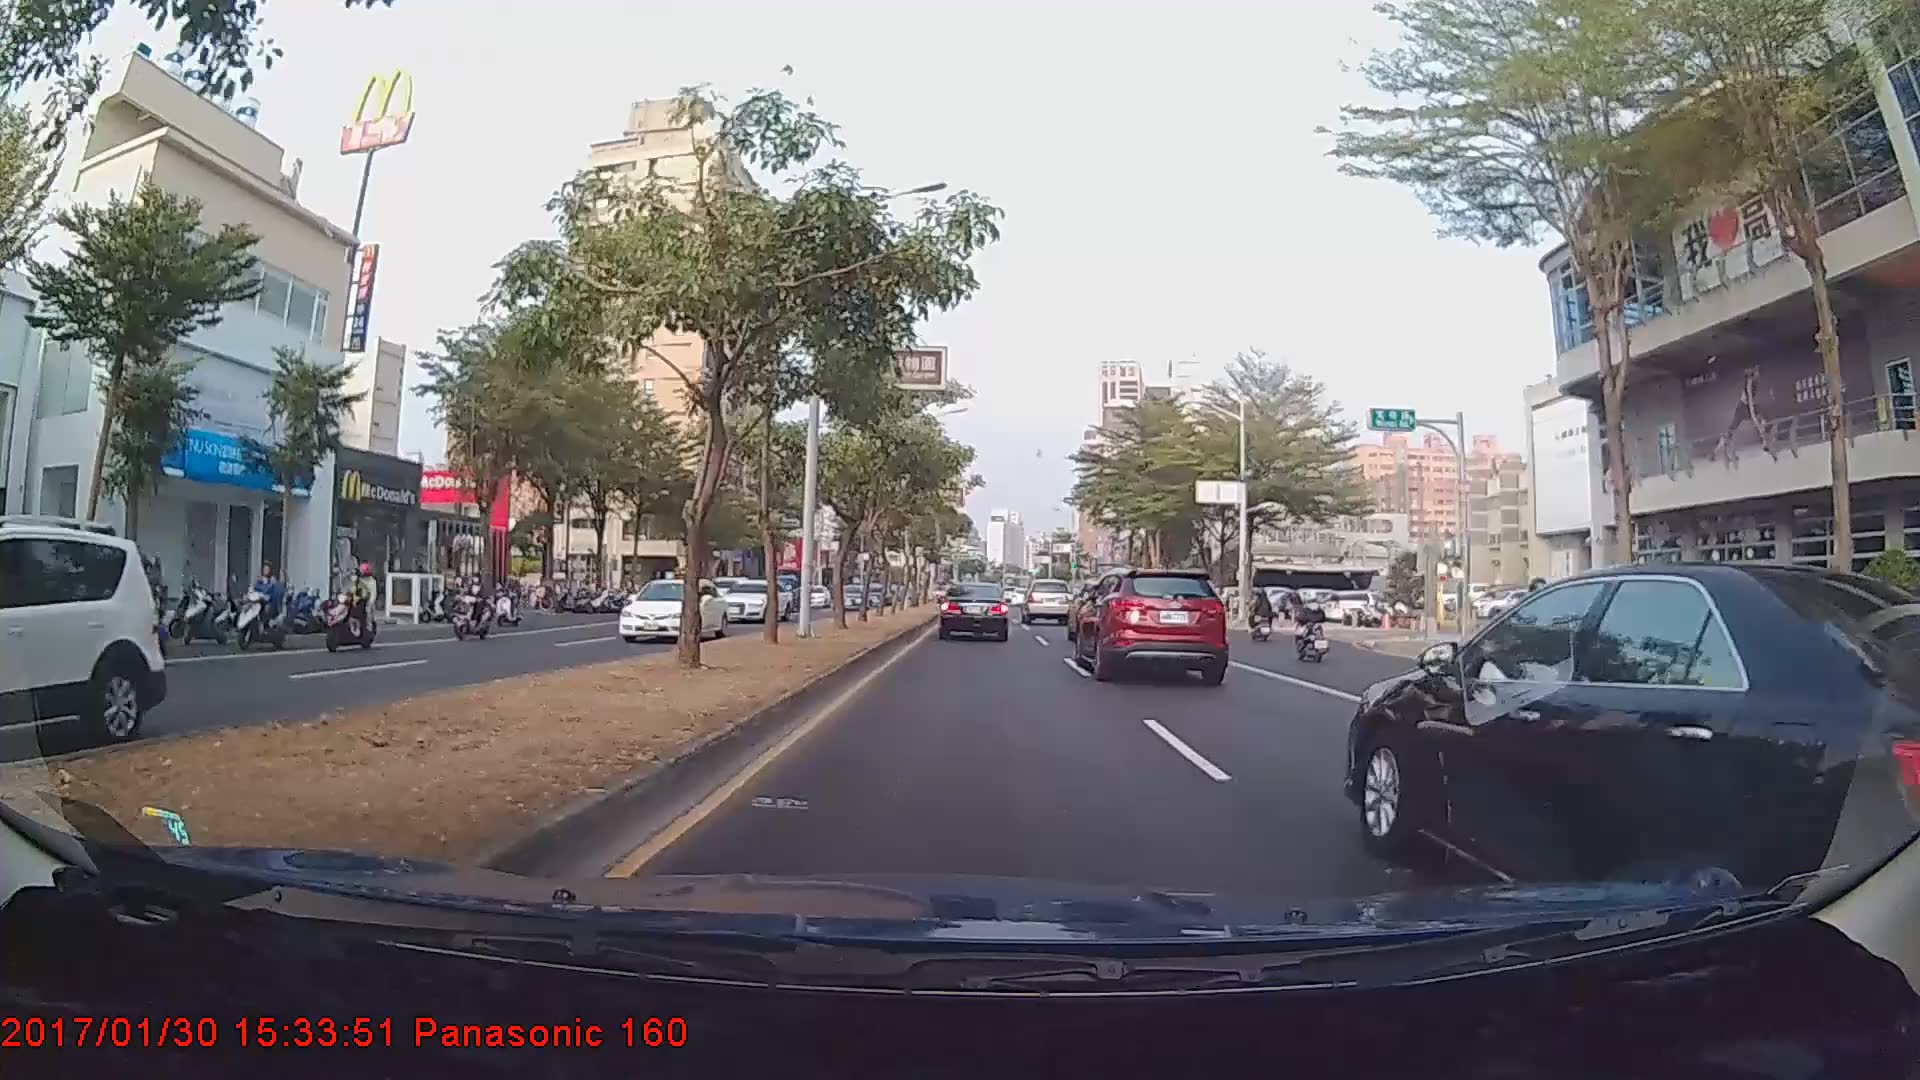rider: (1481, 572, 1597, 731), (316, 561, 381, 652), (1291, 586, 1334, 668)
vehicle: (1359, 557, 1918, 927), (0, 518, 167, 760), (1076, 567, 1226, 680), (614, 575, 728, 642), (937, 581, 1010, 642), (718, 573, 790, 623), (1020, 577, 1074, 625)
